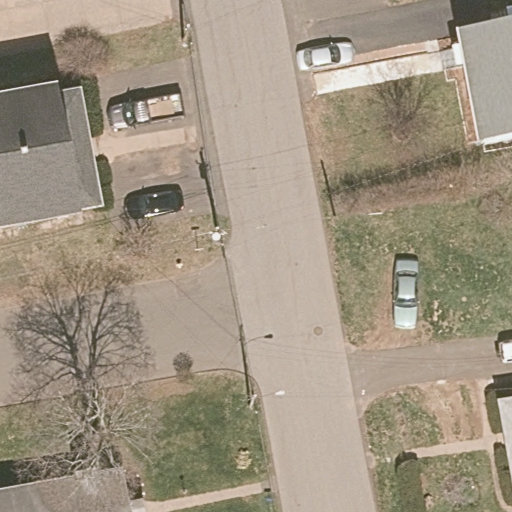DT: (192, 224, 228, 253), (247, 389, 285, 411)
